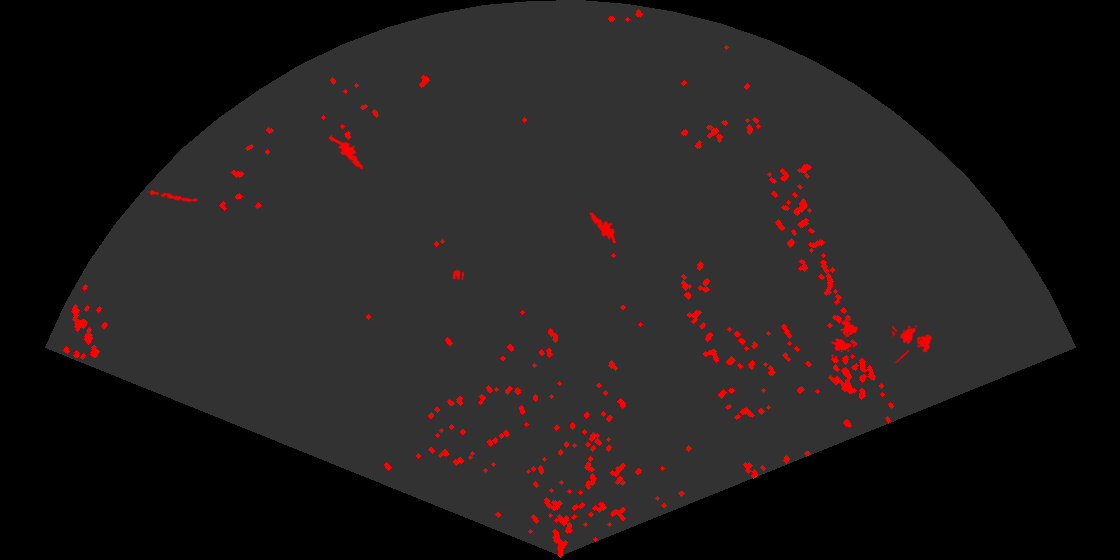ball: (451, 268, 466, 282)
cage: (892, 324, 934, 363), (831, 319, 859, 358)
chain: (147, 188, 199, 204)
frogman: (332, 136, 371, 172), (587, 204, 618, 243)
